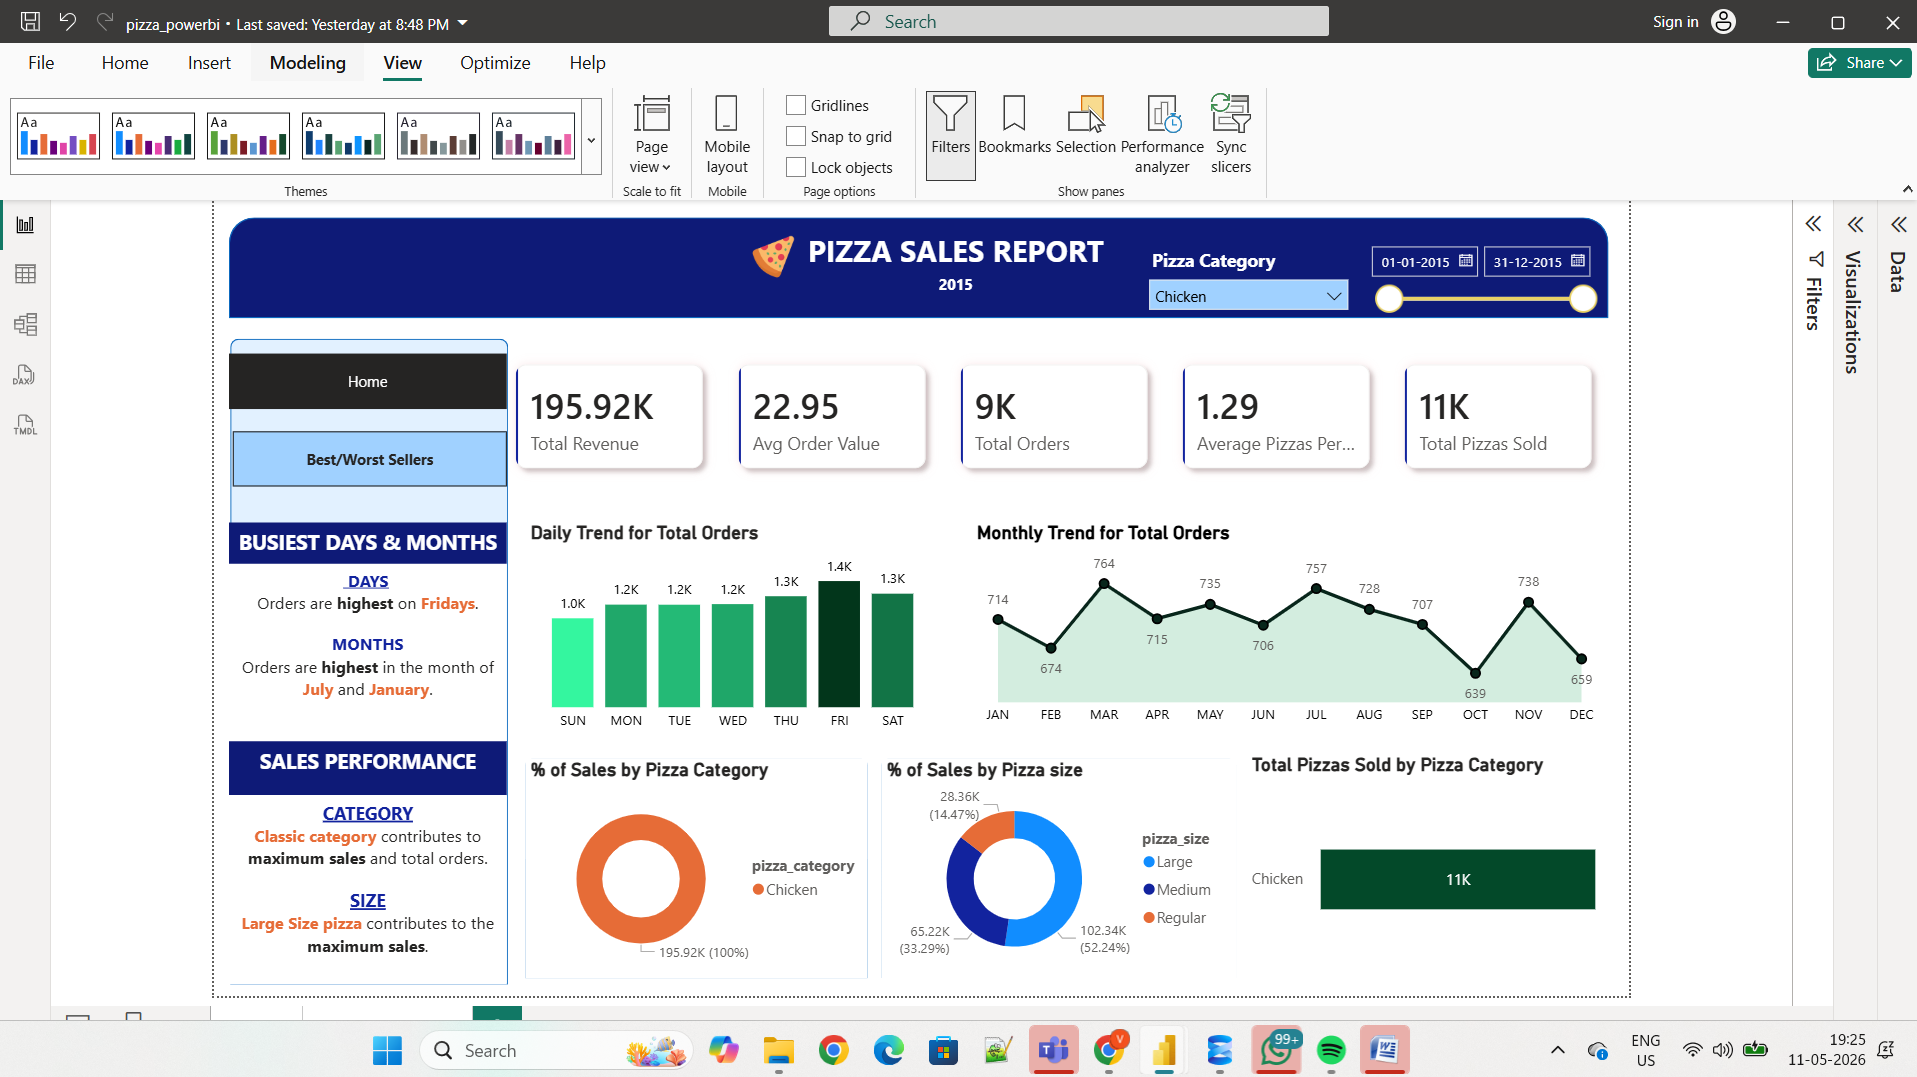

The dashboard page shown, as its layout file describes it:
{"tool":"powerbi","page":{"name":"Home","canvas":[1280,720],"ordinal":0},"visuals":[{"type":"cardVisual","fields":{"Data":["pizza_sales.Total Revenue","pizza_sales.Avg Order Value","pizza_sales.Total Orders","pizza_sales.Average Pizzas Per Order","pizza_sales.Total Pizzas Sold"]},"box":[244.6,119.6,1035.6,152.2],"z":0},{"type":"shape","box":[13.6,16.3,1247.7,91.1],"z":1000},{"type":"textbox","box":[418.6,23.1,505.6,47.6],"z":2000},{"type":"image","box":[470.3,31.3,70.7,39.4],"z":3000},{"type":"textbox","box":[557.2,62.5,227,38.1],"z":4000},{"type":"shape","box":[281.3,271.8,376.5,207.9],"z":5000},{"type":"columnChart","title":"Daily Trend for Total Orders","fields":{"Category":["pizza_sales.Order Day"],"Y":["pizza_sales.Total Orders"]},"box":[281.3,290.8,376.5,198.4],"z":6000},{"type":"shape","box":[680.9,271.8,580.3,207.9],"z":7000},{"type":"areaChart","title":"Monthly Trend for Total Orders","fields":{"Category":["pizza_sales.Order Month"],"Y":["pizza_sales.Total Orders"]},"box":[685,290.8,576.3,193],"z":8000},{"type":"shape","box":[281.3,505.6,309.9,198.4],"z":9000},{"type":"shape","box":[603.4,505.6,320.7,198.4],"z":10000},{"type":"shape","box":[933.7,505.6,327.5,198.4],"z":11000},{"type":"donutChart","title":"% of Sales by Pizza Category","fields":{"Category":["pizza_sales.pizza_category"],"Y":["pizza_sales.Total Revenue"]},"box":[281.3,505.6,309.9,198.4],"z":12000},{"type":"donutChart","title":"% of Sales by Pizza size","fields":{"Category":["pizza_sales.pizza_size"],"Y":["pizza_sales.Total Revenue"]},"box":[603.4,505.6,320.7,198.4],"z":13000},{"type":"funnel","title":"Total Pizzas Sold by Pizza Category","fields":{"Category":["pizza_sales.pizza_category"],"Y":["pizza_sales.Total Pizzas Sold"]},"box":[934.3,501.4,325.7,208.6],"z":14000},{"type":"shape","box":[14.3,125.7,251.4,584.3],"z":15000},{"type":"textbox","box":[13.8,291.2,251.2,37.5],"z":16000},{"type":"textbox","box":[13.8,328.8,251.2,161.2],"z":17000},{"type":"textbox","box":[13.8,490,251.2,48.8],"z":18000},{"type":"textbox","box":[13.8,538.8,251.2,171.2],"z":19000},{"type":"slicer","fields":{"Values":["pizza_sales.pizza_category"]},"box":[835,38.3,200,106.7],"z":20000},{"type":"slicer","fields":{"Values":["pizza_sales.order_date"]},"box":[1035,31.7,225,106.7],"z":21000},{"type":"pageNavigator","box":[13.3,138.9,251.1,50],"z":21001},{"type":"pageNavigator","box":[16.7,208.9,248.9,50],"z":21002}]}

Visuals, with their boxes on the page's 1280x720 design canvas (x1, y1, x2, y2). These are canvas units, not pixel positions in the 1917x1077 screenshot, which may show the page scaled, cropped or inside an application window:
cardVisual - pizza_sales.Total Revenue x pizza_sales.Avg Order Value: 245/120/1280/272
shape: 14/16/1261/107
textbox: 419/23/924/71
image: 470/31/541/71
textbox: 557/62/784/101
shape: 281/272/658/480
"Daily Trend for Total Orders" columnChart: 281/291/658/489
shape: 681/272/1261/480
"Monthly Trend for Total Orders" areaChart: 685/291/1261/484
shape: 281/506/591/704
shape: 603/506/924/704
shape: 934/506/1261/704
"% of Sales by Pizza Category" donutChart: 281/506/591/704
"% of Sales by Pizza size" donutChart: 603/506/924/704
"Total Pizzas Sold by Pizza Category" funnel: 934/501/1260/710
shape: 14/126/266/710
textbox: 14/291/265/329
textbox: 14/329/265/490
textbox: 14/490/265/539
textbox: 14/539/265/710
slicer - pizza_sales.pizza_category: 835/38/1035/145
slicer - pizza_sales.order_date: 1035/32/1260/138
pageNavigator: 13/139/264/189
pageNavigator: 17/209/266/259
